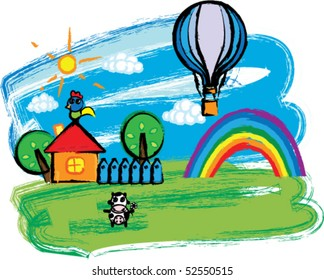building: (43, 118, 108, 184)
rainbow: (182, 108, 308, 181)
sun: (28, 27, 106, 97)
tree: (13, 127, 58, 183), (119, 111, 166, 162)
